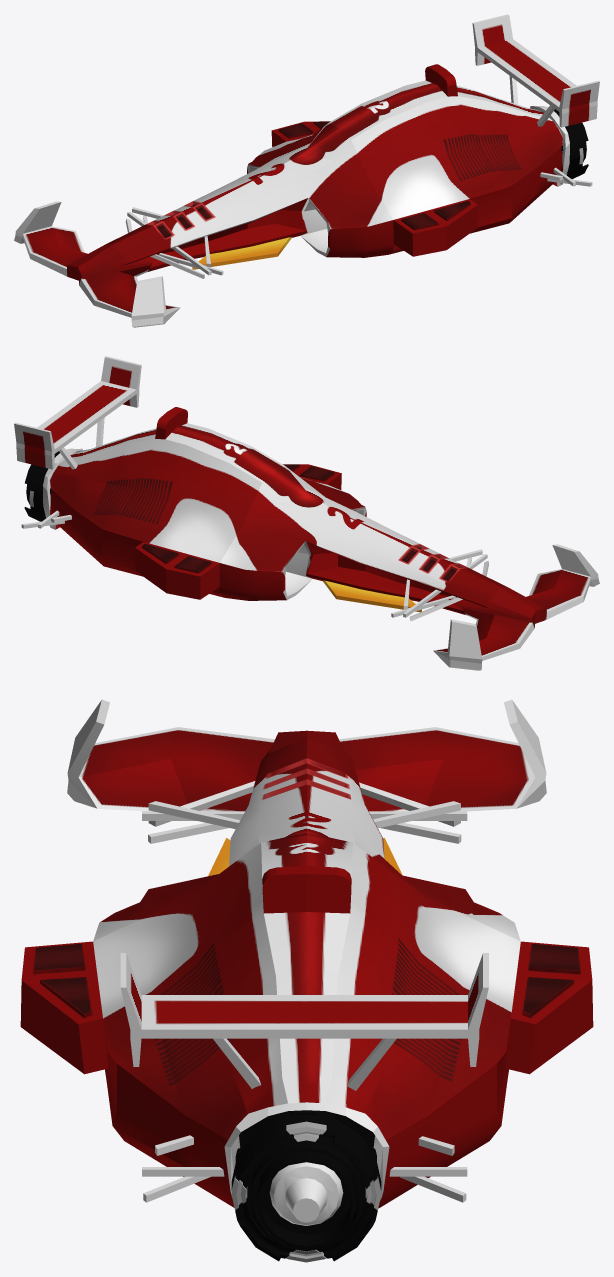
3 views of the same model, one above another, from view 1: azimuth 30°, elevation 25°; view 2: azimuth 150°, elevation 25°; view 3: azimuth 270°, elevation 25° (orthographic). The views are drawn at different scales.
Parts seen in each view (by area): view 1: Base, Part_3, Part_1, Part_5, Part_7, connector, Part_6, Engine, Part_4, Part_2; view 2: Base, Part_3, Part_1, Part_4, Part_7, connector, Part_6, Engine, Part_5, Part_2; view 3: Base, Part_3, Engine, Part_1, connector, Part_4, Part_5, Part_7, Part_2.
Boxes of the visible parts, <box> form: Base: <box>67,80,569,284</box>; Part_3: <box>14,201,180,327</box>; Part_1: <box>472,14,599,127</box>; Part_5: <box>393,199,477,256</box>; Part_7: <box>194,144,333,216</box>; connector: <box>125,76,592,278</box>; Part_6: <box>192,237,291,269</box>; Engine: <box>554,109,588,182</box>; Part_4: <box>271,121,330,147</box>; Part_2: <box>425,64,457,96</box>; Base: <box>43,423,546,627</box>; Part_3: <box>433,544,599,670</box>; Part_1: <box>14,356,141,469</box>; Part_4: <box>135,542,219,599</box>; Part_7: <box>279,487,419,559</box>; connector: <box>21,418,488,621</box>; Part_6: <box>322,580,421,612</box>; Engine: <box>24,451,59,521</box>; Part_5: <box>283,464,341,489</box>; Part_2: <box>155,407,187,439</box>; Base: <box>93,730,520,1208</box>; Part_3: <box>67,699,546,811</box>; Engine: <box>231,1110,381,1262</box>; Part_1: <box>120,953,488,1066</box>; connector: <box>142,781,467,1202</box>; Part_4: <box>505,941,593,1074</box>; Part_5: <box>20,941,108,1074</box>; Part_7: <box>258,784,355,843</box>; Part_2: <box>262,866,351,913</box>.
Size of the model in its own units: 0.0935 by 0.0235 by 0.0447.
